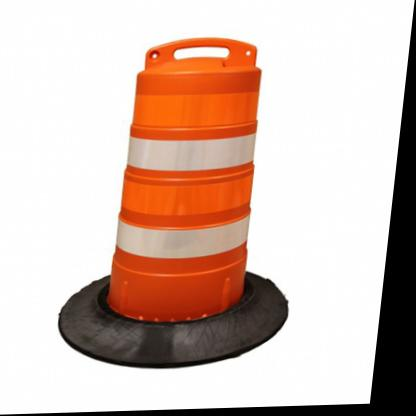obstacle: (100, 37, 296, 326)
